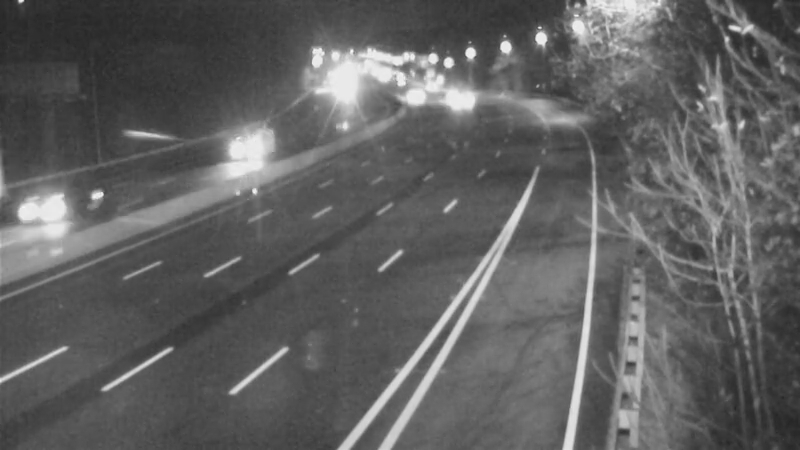vehicle: (4, 167, 84, 247), (408, 61, 458, 111), (387, 75, 437, 125), (431, 82, 481, 132), (222, 119, 272, 169), (320, 65, 370, 115)
